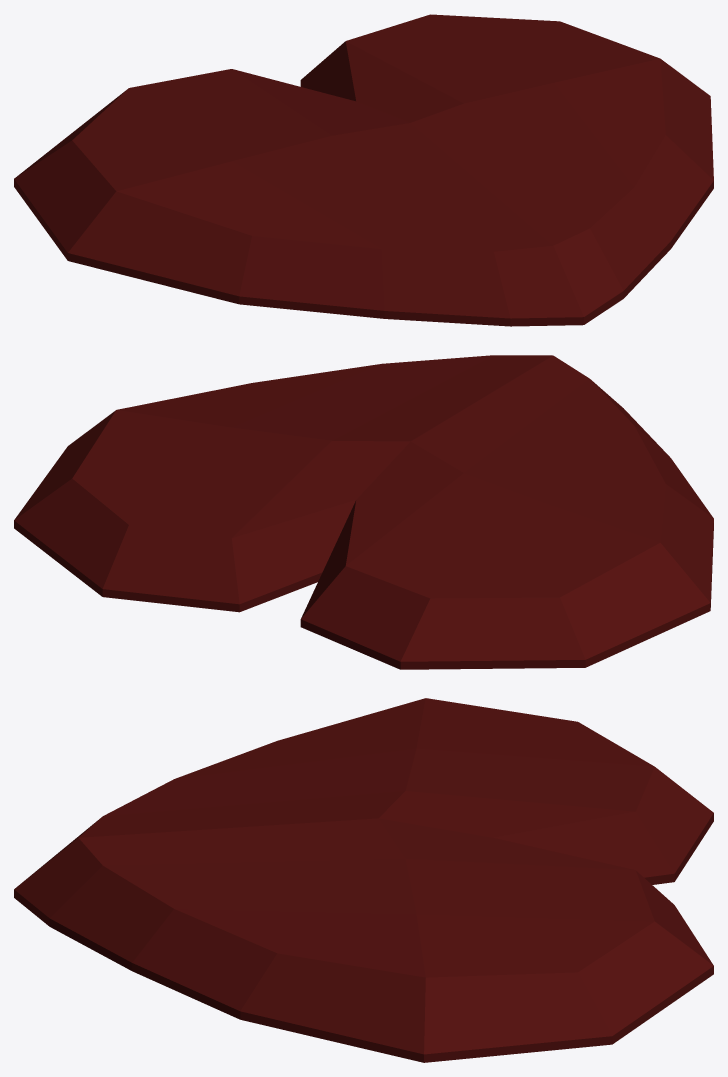
The model's file is HeartOff.glb.
3 views of the same model, one above another, from view 1: azimuth 30°, elevation 25°; view 2: azimuth 150°, elevation 25°; view 3: azimuth 270°, elevation 25° (orthographic). The views are drawn at different scales.
Visible parts, largest first — view 1: Heart; view 2: Heart; view 3: Heart.
Boxes of the visible parts, box(x1,y1,x2,y2) form: Heart: box(14, 14, 713, 326); Heart: box(14, 355, 713, 669); Heart: box(14, 698, 713, 1062).
Size of the model in its own units: 2.79 by 0.3126 by 2.5.
